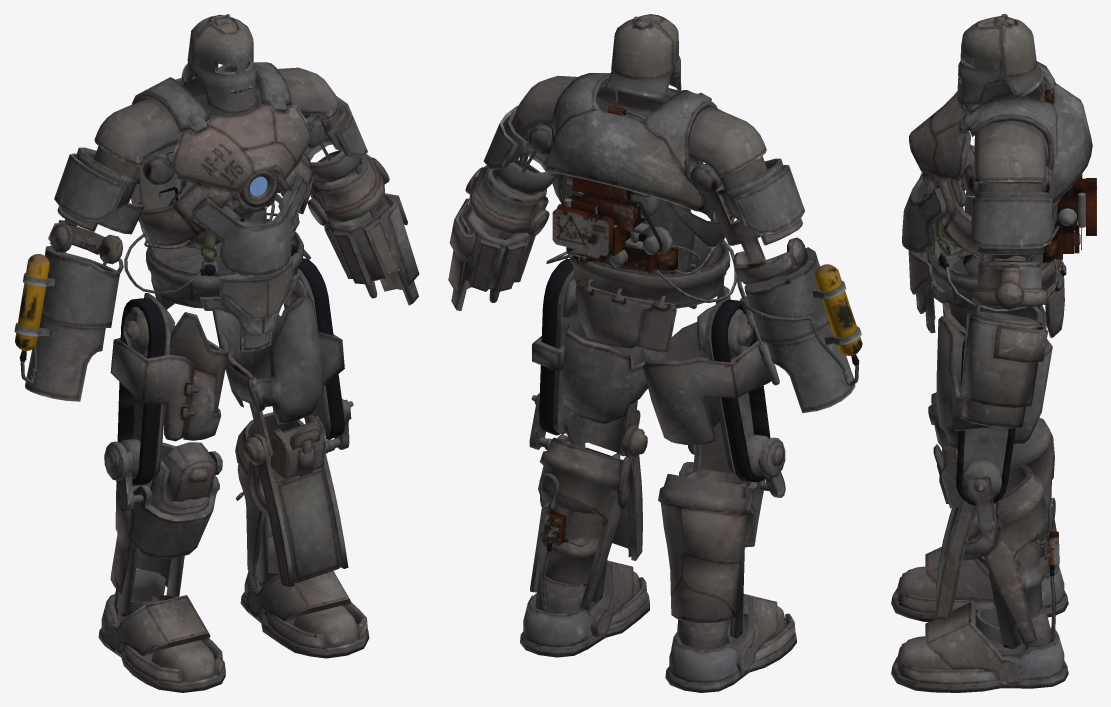
Rendered from letsbegin.glb.
3 views of the same model, side by side, from view 1: azimuth 30°, elevation 25°; view 2: azimuth 150°, elevation 25°; view 3: azimuth 270°, elevation 25° (orthographic). The views are drawn at different scales.
Visible parts, largest first — view 1: leg_right, leg_left, arm_right, arm_left, torso, leg_left_thigh, torso_upperchest, torso_stomach, helemt_front, arm_right_shoulder, torso_abdomen_support, leg_right_wheel (+10 smaller); view 2: leg_right, arm_right, leg_left, torso_traps, arm_left, leg_right_claves, leg_left_calves, torso, leg_left_thigh, torso_abdomen_support, helemet_back, arm_right_shoulder (+13 smaller); view 3: leg_left, arm_left, leg_left_calves, leg_right, torso_traps, torso, leg_left_thigh, arm_left_shoulder, torso_upperchest, helemt_front, helemet_back, torso_stomach (+9 smaller).
Part boxes in pixels (x1,y1,x2,y2): leg_right: (98, 293, 228, 692); leg_left: (240, 268, 369, 658); arm_right: (14, 146, 173, 401); arm_left: (303, 96, 419, 305); torso: (124, 153, 314, 351); leg_left_thigh: (212, 295, 344, 424); torso_upperchest: (171, 104, 311, 193); torso_stomach: (193, 175, 309, 277); helemt_front: (192, 17, 256, 114); arm_right_shoulder: (94, 98, 182, 167); torso_abdomen_support: (146, 218, 303, 308); leg_right_wheel: (117, 298, 164, 485); leg_right: (642, 286, 796, 692); arm_right: (690, 156, 861, 412); leg_left: (520, 269, 649, 657); torso_traps: (545, 73, 717, 211); arm_left: (448, 105, 554, 310); leg_right_claves: (658, 474, 748, 622); leg_left_calves: (530, 437, 621, 609); torso: (546, 163, 737, 352); leg_left_thigh: (532, 324, 653, 424); torso_abdomen_support: (569, 235, 730, 308); helemet_back: (605, 16, 673, 98); arm_right_shoulder: (689, 106, 766, 177); leg_left: (891, 328, 1068, 692); arm_left: (959, 163, 1052, 428); leg_left_calves: (984, 465, 1051, 644); leg_right: (891, 255, 1068, 621); torso_traps: (960, 61, 1092, 203); torso: (908, 144, 1064, 337); leg_left_thigh: (936, 316, 1052, 449); arm_left_shoulder: (974, 121, 1045, 183); torso_upperchest: (909, 91, 971, 180); helemt_front: (957, 16, 1003, 105); helemet_back: (994, 14, 1042, 97); torso_stomach: (902, 172, 946, 253).
Size of the model in its own units: 9.38 by 13.95 by 4.2.
Materials: 9 (9 with a texture image).
